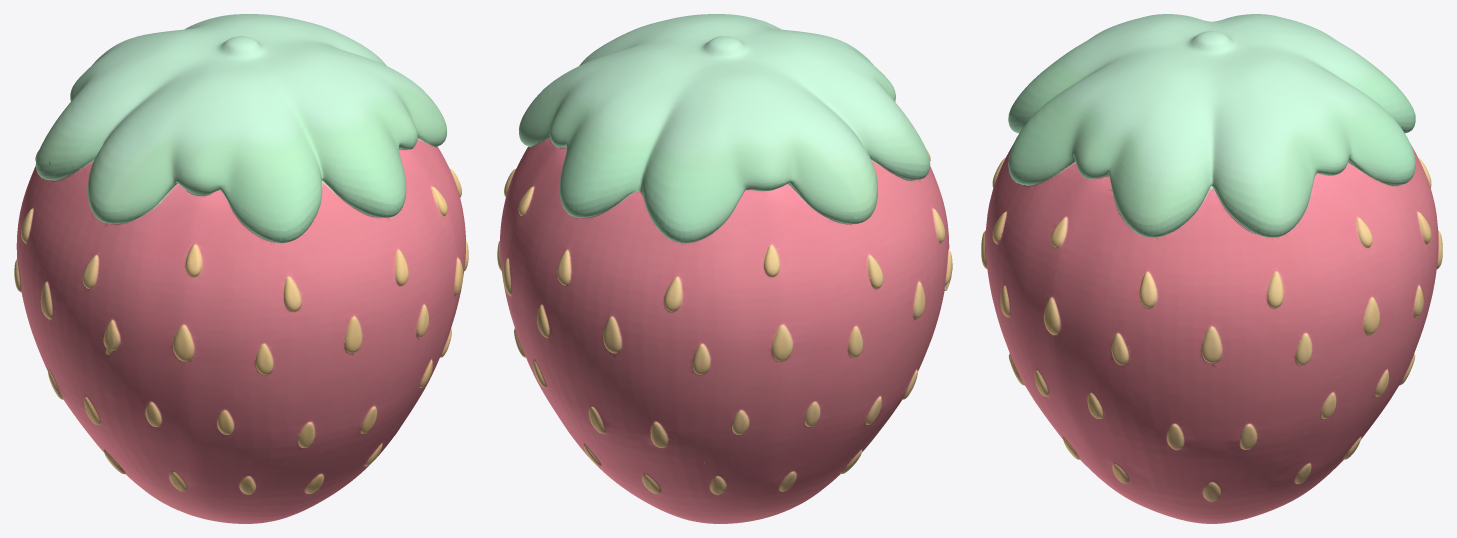
File: Meshy_AI_Pastel_Strawberry_0520111452_texture.fbx
The picture shows the model from 3 angles, left to right: view 1: azimuth 30°, elevation 25°; view 2: azimuth 150°, elevation 25°; view 3: azimuth 270°, elevation 25°; orthographic projection.
Parts seen in each view (by area): view 1: Mesh_0; view 2: Mesh_0; view 3: Mesh_0.
Part boxes in pixels (<box>): Mesh_0: <box>14,14,468,523</box>; Mesh_0: <box>497,14,952,523</box>; Mesh_0: <box>981,14,1442,523</box>.
Bounding box in the file's own units: 167 × 190 × 167.
Materials: 1 (1 with a texture image).
